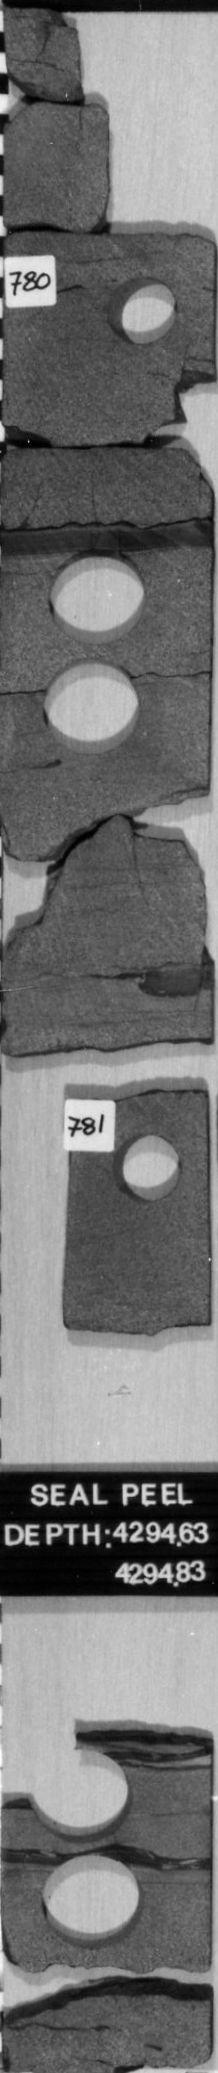hplug: (104, 268, 184, 352), (114, 1130, 188, 1207)
scal: (37, 1846, 147, 1949), (37, 656, 148, 758), (46, 547, 152, 652), (29, 1745, 137, 1846)
